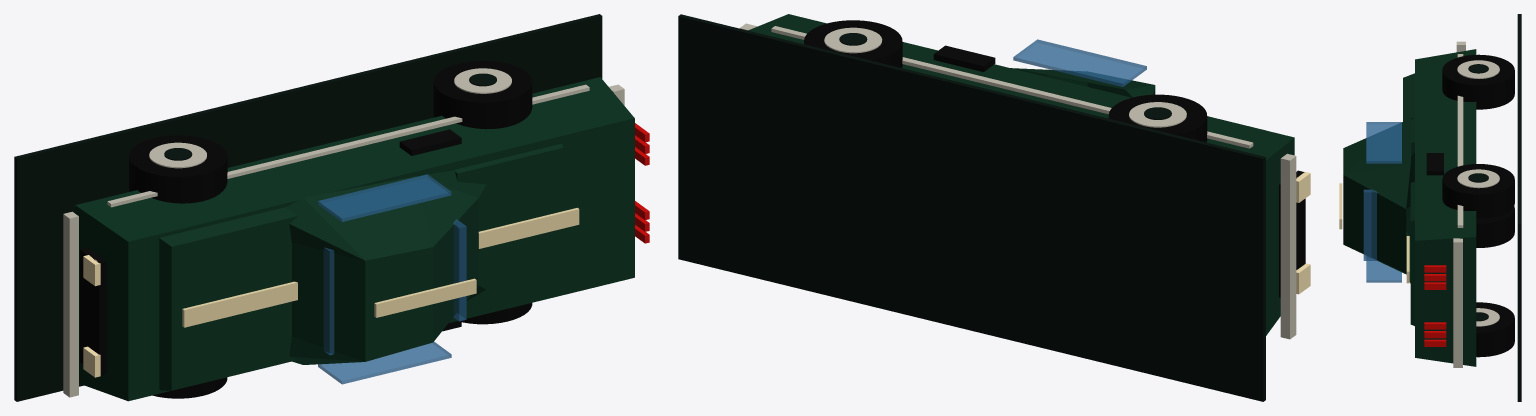
The model's file is stylized_1960s_mustang.obj.
3 renders of one model, left to right at view 1: azimuth 30°, elevation 25°; view 2: azimuth 150°, elevation 25°; view 3: azimuth 270°, elevation 25°, orthographic. The views are drawn at different scales.
Parts seen in each view (by area): view 1: stylized_1960s_mustang; view 2: stylized_1960s_mustang; view 3: stylized_1960s_mustang.
Boxes of the visible parts, box(x1,y1,x2,y2) form: stylized_1960s_mustang: box(14, 14, 649, 401); stylized_1960s_mustang: box(678, 14, 1310, 401); stylized_1960s_mustang: box(1339, 14, 1521, 401).
Bounding box in the file's own units: 6.3 × 2.5 × 2.31.
